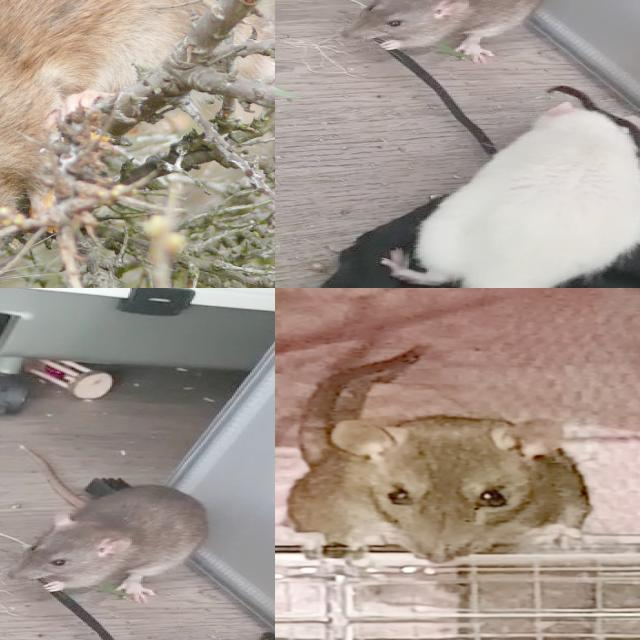rat: (0, 0, 212, 288), (379, 103, 640, 288), (288, 415, 588, 563), (6, 483, 207, 604), (343, 0, 549, 67)
